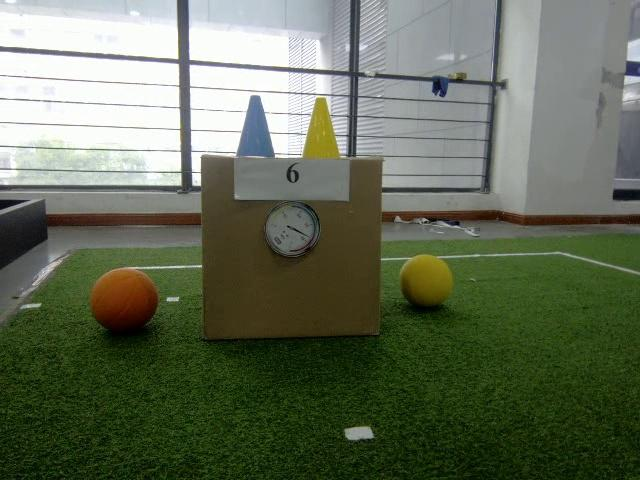6: (285, 161, 300, 184)
Dashboard: (263, 200, 321, 260)
blue_barrel: (233, 93, 278, 158)
orange_ball: (88, 267, 159, 333)
ssi: (272, 235, 282, 246)
yellow_ball: (398, 253, 455, 310)
yellow_barrel: (300, 96, 343, 162)
